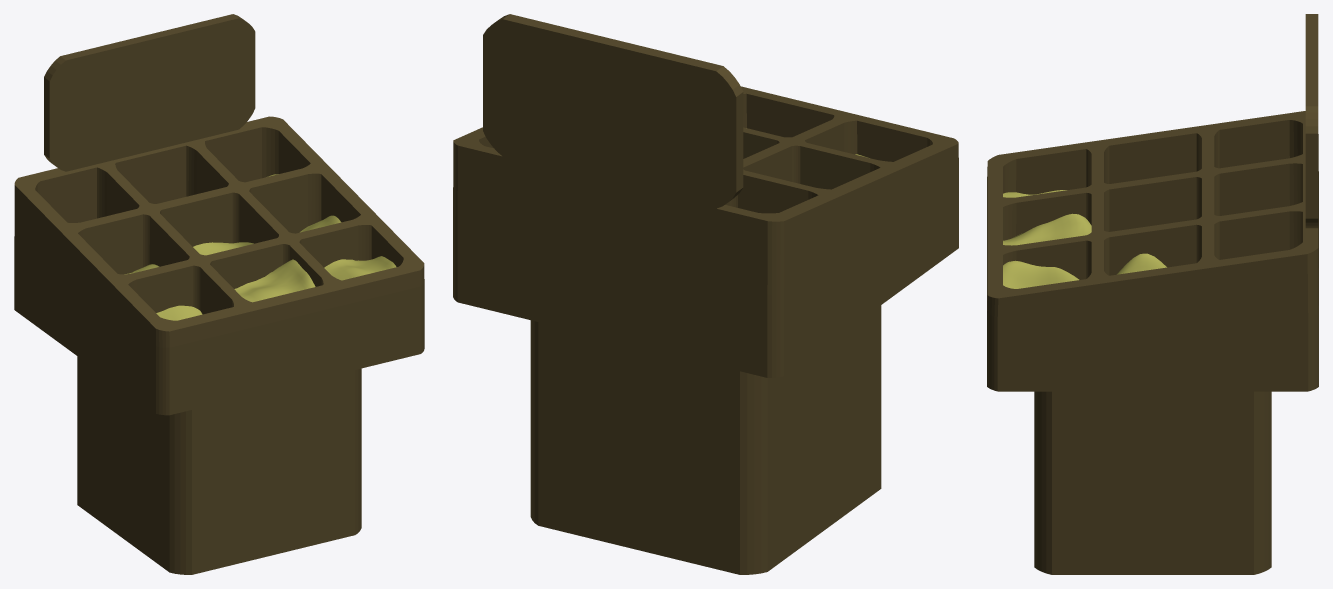
The model's file is timsah_tezgah_1.fbx.
3 renders of one model, left to right at view 1: azimuth 30°, elevation 25°; view 2: azimuth 150°, elevation 25°; view 3: azimuth 270°, elevation 25°, orthographic. The views are drawn at different scales.
Visible parts, largest first — view 1: Cube.021, Cube.018, Cube.016, Cube.015; view 2: Cube.021, Cube.018, Cube.016; view 3: Cube.021, Cube.018, Cube.015, Cube.016.
Boxes of the visible parts, x1,y1,x2,y2 form: Cube.021: (14, 116, 424, 415); Cube.018: (77, 356, 361, 574); Cube.016: (44, 14, 255, 171); Cube.015: (124, 174, 396, 320); Cube.021: (453, 86, 958, 377); Cube.018: (530, 305, 881, 574); Cube.016: (483, 14, 743, 208); Cube.021: (987, 111, 1318, 391); Cube.018: (1034, 391, 1271, 574); Cube.015: (1003, 190, 1166, 288); Cube.016: (1305, 14, 1318, 228).
Bounding box in the file's own units: 102 × 153 × 99.24.
